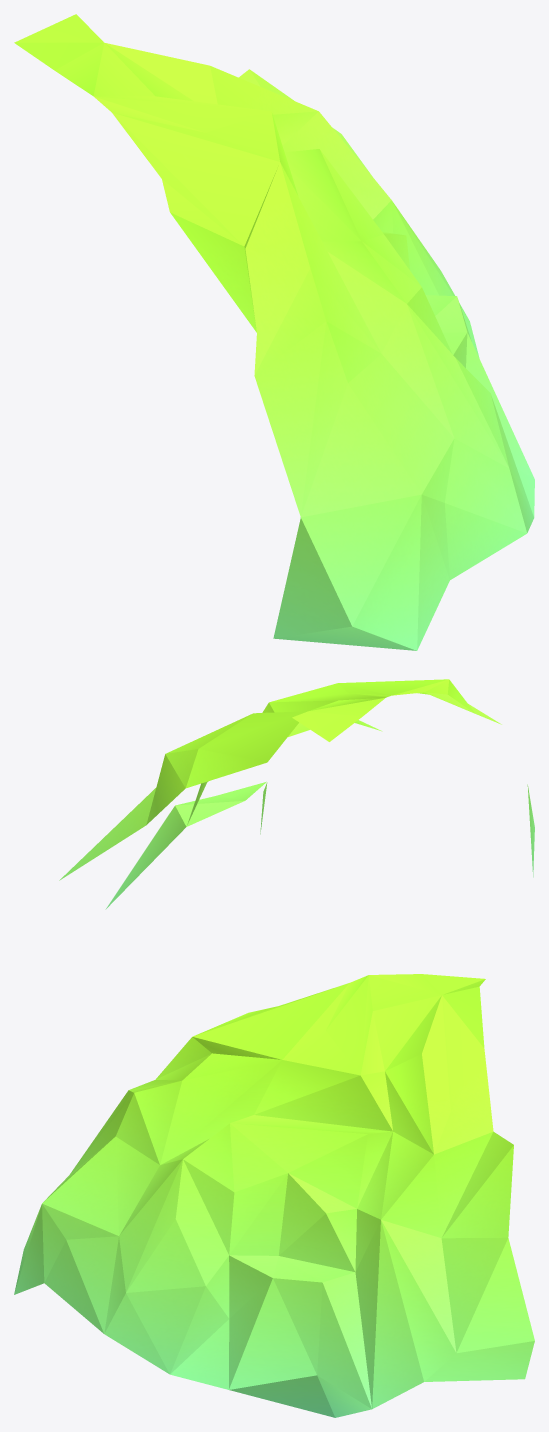
The model's file is Brain E.gltf.
3 views of the same model, one above another, from view 1: azimuth 30°, elevation 25°; view 2: azimuth 150°, elevation 25°; view 3: azimuth 270°, elevation 25° (orthographic). The views are drawn at different scales.
Parts seen in each view (by area): view 1: BrainSolid Light E; view 2: BrainSolid Light E; view 3: BrainSolid Light E.
Boxes of the visible parts, left/top/right/bottom form: BrainSolid Light E: left=14, top=14, right=534, bottom=650; BrainSolid Light E: left=59, top=679, right=534, bottom=909; BrainSolid Light E: left=14, top=974, right=534, bottom=1417.
Bounding box in the file's own units: 2.22 × 2.23 × 3.12.
1 material, 1 textured.
